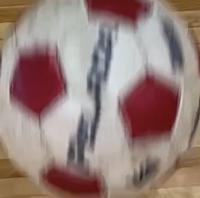Sports-Ball: (7, 3, 199, 182)
